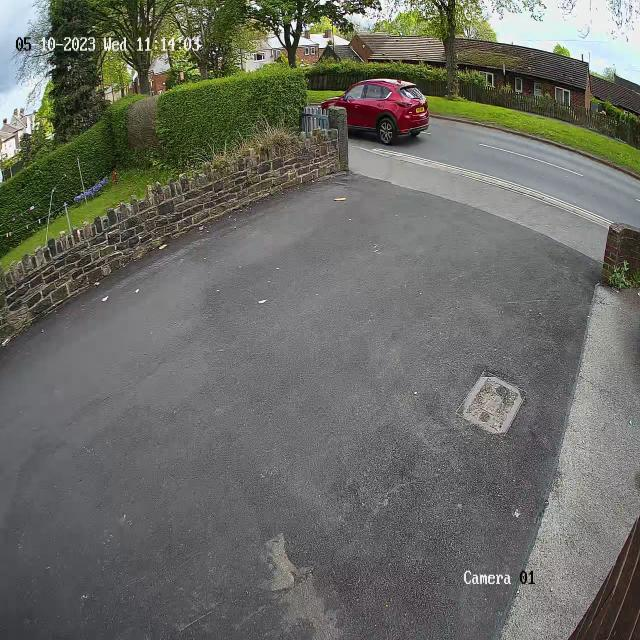vehicle: (314, 57, 439, 154)
